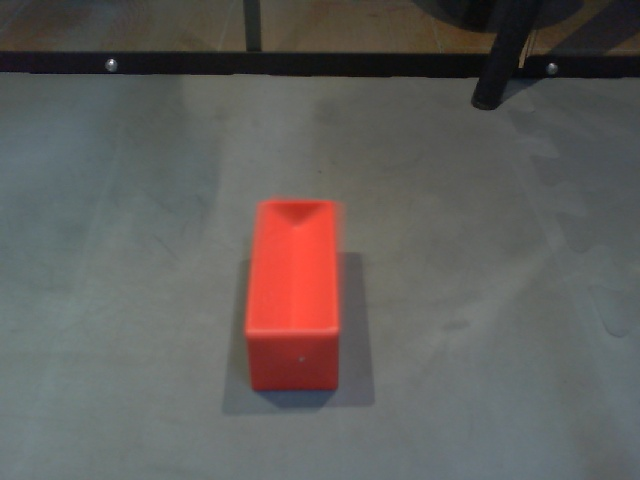RedSample: (243, 196, 342, 395)
